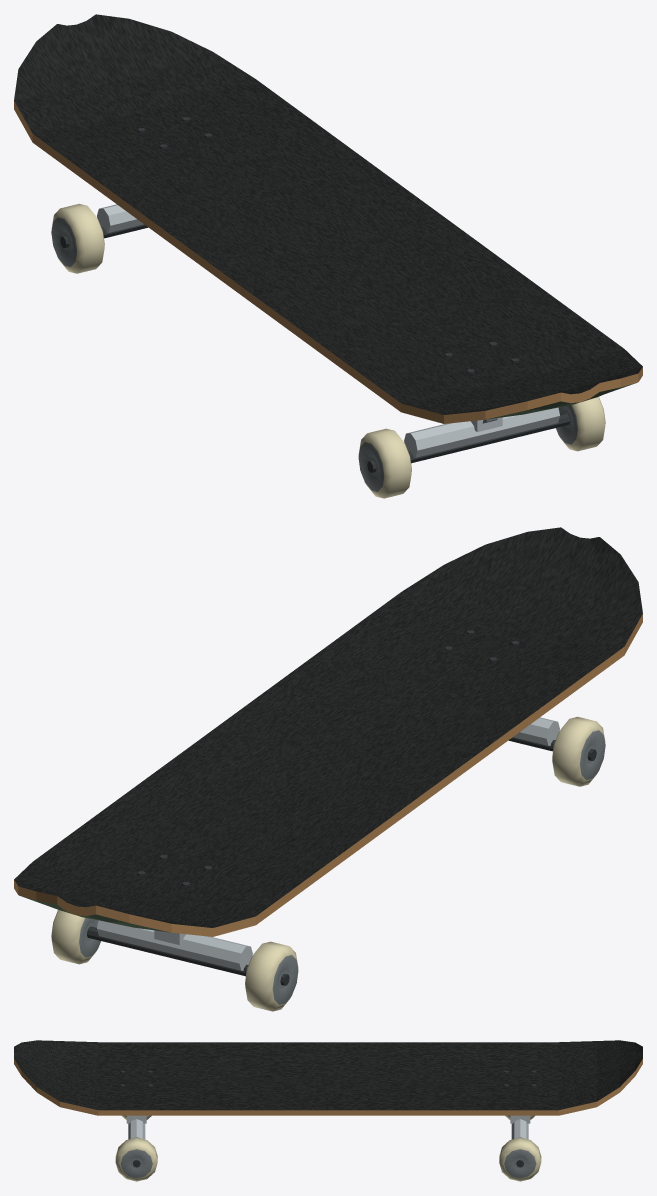
File: 09_Cache_Run.glb
3 renders of one model, top to bottom at view 1: azimuth 30°, elevation 25°; view 2: azimuth 150°, elevation 25°; view 3: azimuth 270°, elevation 25°, orthographic. The views are drawn at different scales.
Visible parts, largest first — view 1: Deck_Cache_Run, Truck_Rear_Cache_Run, Wheel_FrontL_Cache_Run, Wheel_RearL_Cache_Run, Wheel_RearR_Cache_Run, Truck_Front_Cache_Run; view 2: Deck_Cache_Run, Truck_Front_Cache_Run, Wheel_RearL_Cache_Run, Wheel_FrontL_Cache_Run, Wheel_FrontR_Cache_Run, Truck_Rear_Cache_Run; view 3: Deck_Cache_Run, Wheel_FrontR_Cache_Run, Wheel_RearR_Cache_Run, Truck_Front_Cache_Run, Truck_Rear_Cache_Run.
Boxes of the visible parts, x1,y1,x2,y2 form: Deck_Cache_Run: (14, 14, 642, 423); Truck_Rear_Cache_Run: (367, 407, 570, 472); Wheel_FrontL_Cache_Run: (51, 203, 104, 273); Wheel_RearL_Cache_Run: (358, 428, 411, 498); Wheel_RearR_Cache_Run: (556, 397, 605, 451); Truck_Front_Cache_Run: (60, 204, 148, 247); Deck_Cache_Run: (14, 527, 642, 936); Truck_Front_Cache_Run: (86, 920, 289, 985); Wheel_RearL_Cache_Run: (552, 716, 605, 786); Wheel_FrontL_Cache_Run: (245, 941, 298, 1011); Wheel_FrontR_Cache_Run: (51, 910, 100, 964); Truck_Rear_Cache_Run: (508, 717, 596, 760); Deck_Cache_Run: (14, 1040, 642, 1115); Wheel_FrontR_Cache_Run: (499, 1137, 541, 1181); Wheel_RearR_Cache_Run: (115, 1137, 157, 1181); Truck_Front_Cache_Run: (508, 1115, 530, 1167); Truck_Rear_Cache_Run: (125, 1115, 146, 1167).
Size of the model in its own units: 0.21 by 0.139 by 0.82.
8 materials, 2 textured.
